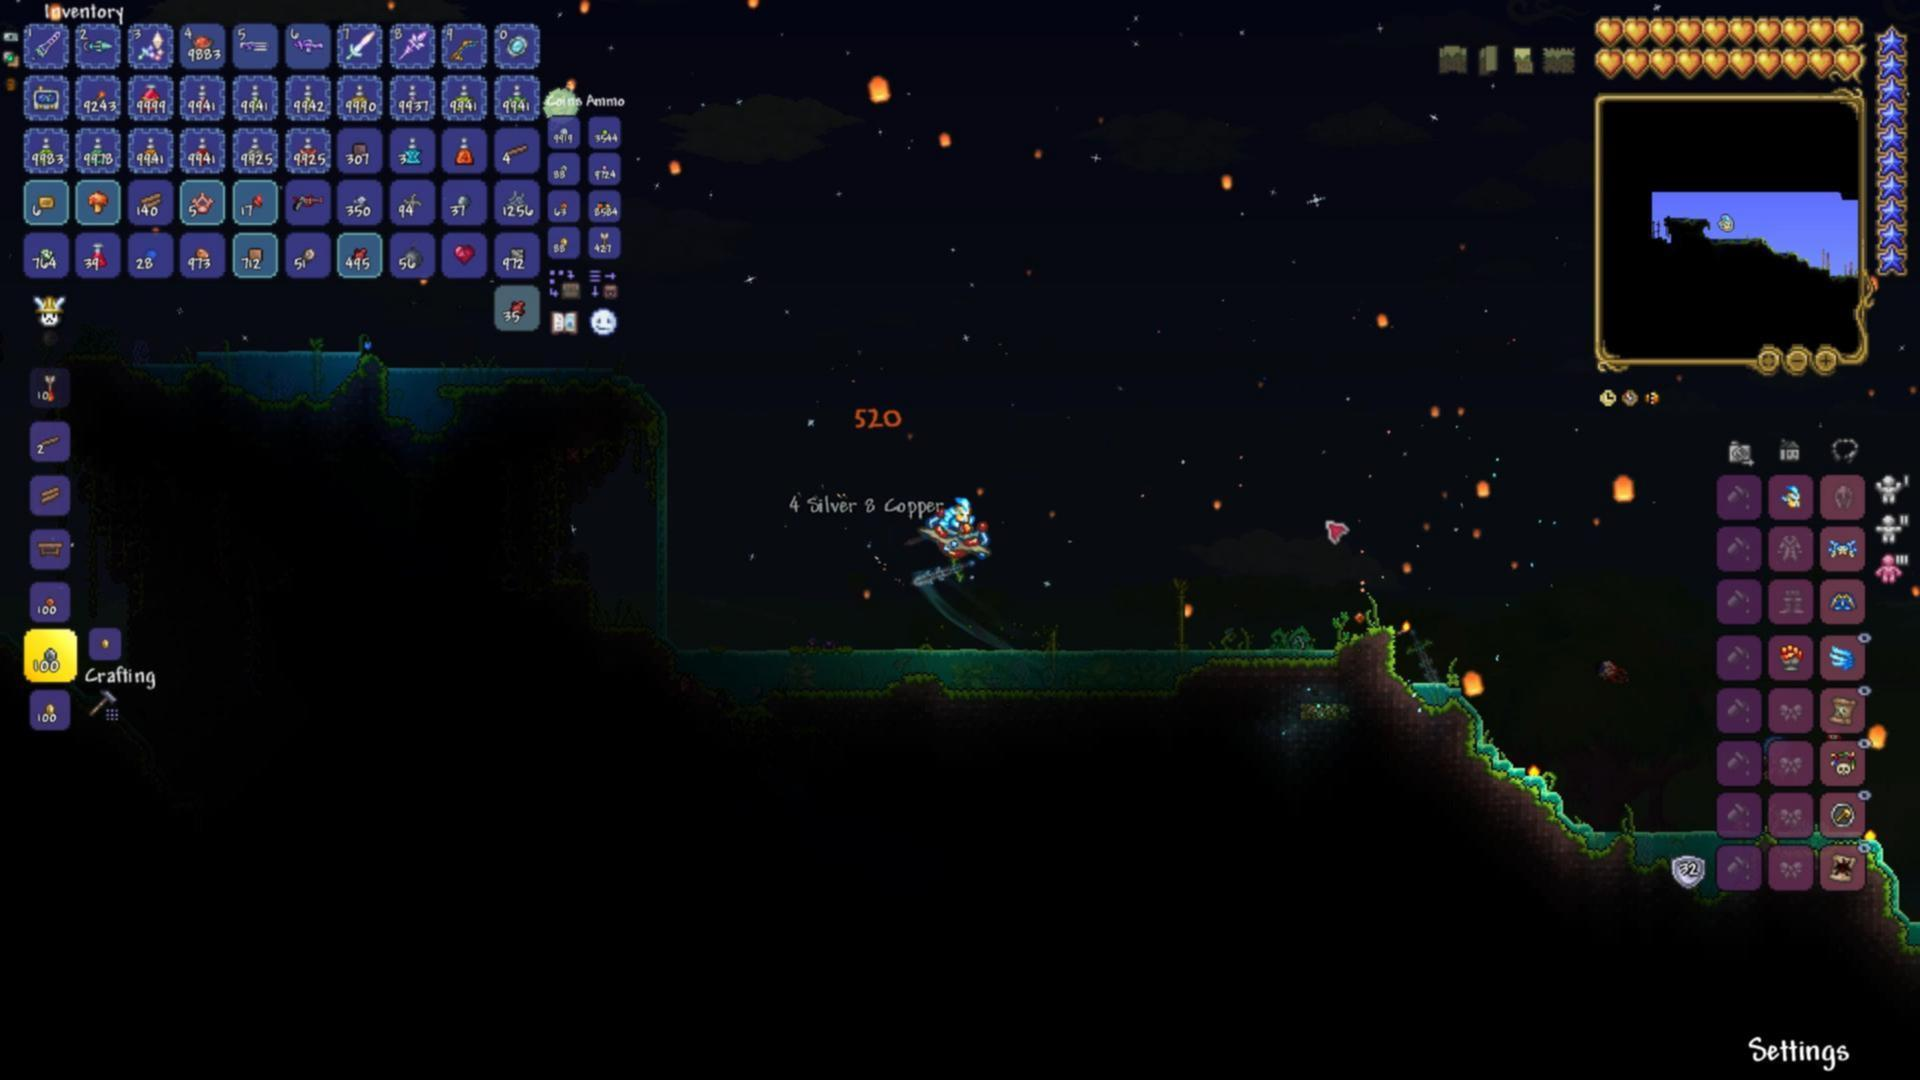eye: (1590, 654, 1631, 687)
lens: (1290, 628, 1309, 658)
mirror: (504, 30, 530, 59)
